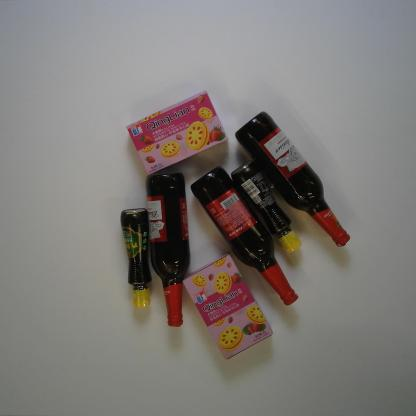Alcohol: (234, 109, 352, 248), (188, 164, 300, 307), (144, 171, 192, 328)
Dessert: (181, 253, 276, 361), (124, 88, 231, 180)
Seasoner: (231, 160, 304, 255), (119, 207, 154, 310)
